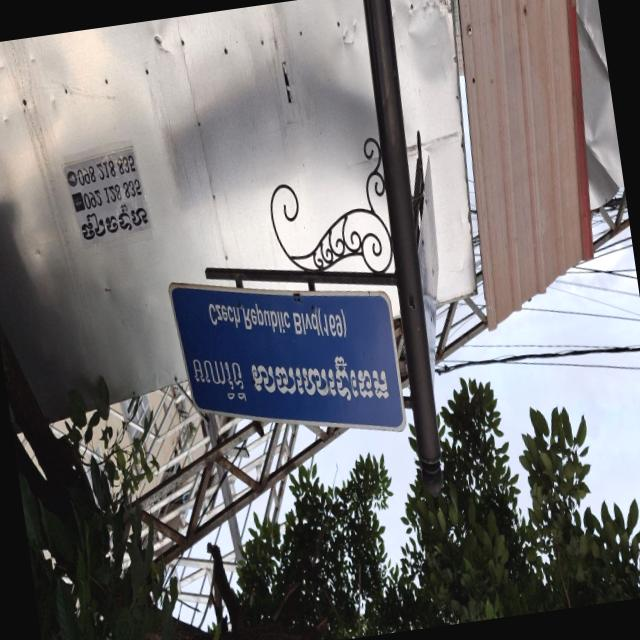Yolov11_80vkh: (244, 338, 406, 418), (66, 192, 166, 265), (191, 348, 250, 412)
